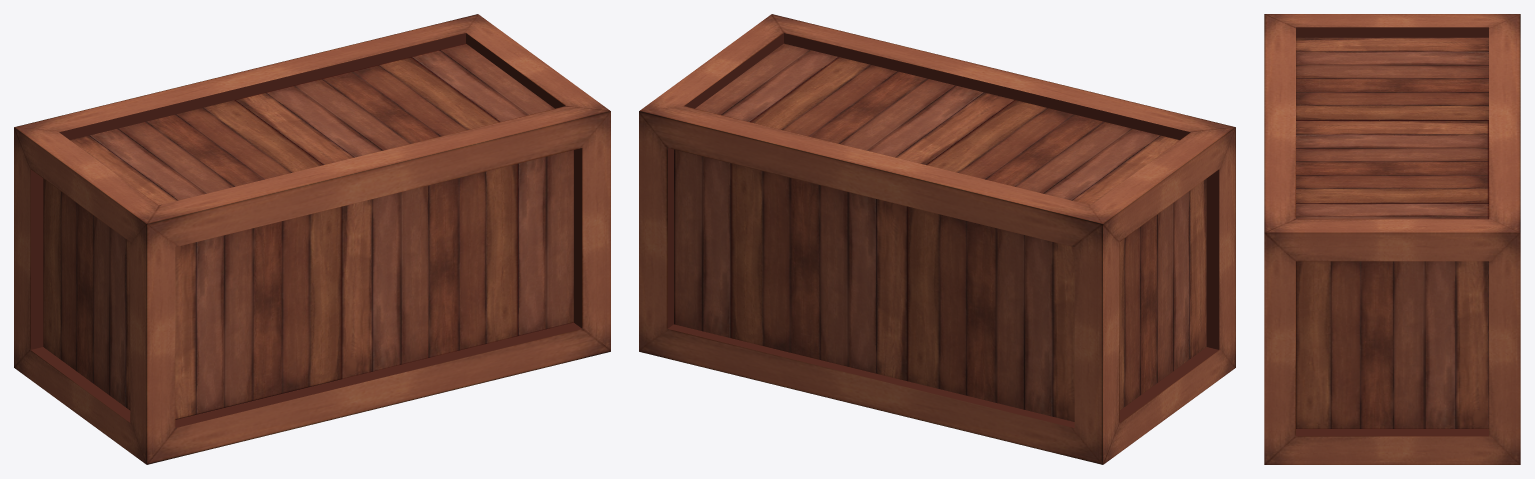
3 renders of one model, left to right at view 1: azimuth 30°, elevation 25°; view 2: azimuth 150°, elevation 25°; view 3: azimuth 270°, elevation 25°, orthographic. The views are drawn at different scales.
Parts seen in each view (by area): view 1: pCube3; view 2: pCube3; view 3: pCube3.
Boxes of the visible parts, x1,y1,x2,y2 form: pCube3: [14, 14, 610, 464]; pCube3: [639, 14, 1235, 464]; pCube3: [1264, 14, 1520, 464].
Bounding box in the file's own units: 202 × 100 × 100.
Materials: 1 (1 with a texture image).
